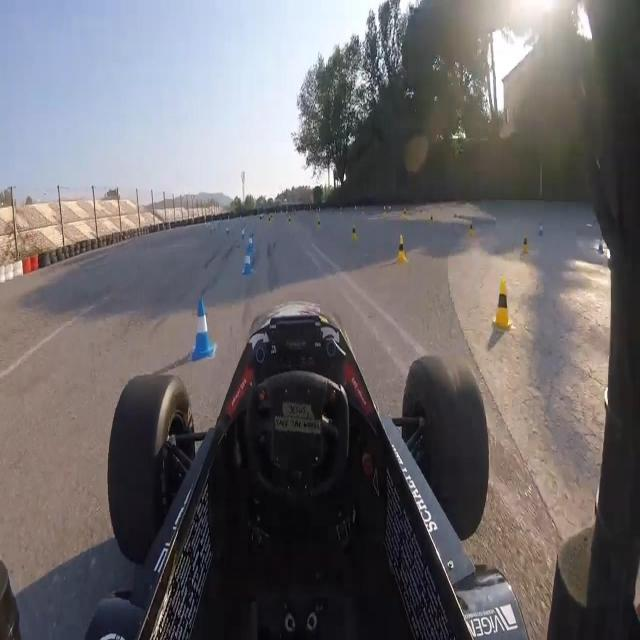blue_cone: (186, 292, 217, 362), (242, 249, 253, 278), (248, 237, 256, 260), (538, 217, 546, 238), (597, 234, 604, 253), (241, 228, 246, 242)
yellow_cone: (489, 276, 511, 330), (398, 235, 408, 262), (521, 235, 529, 259), (352, 223, 358, 243), (469, 221, 474, 239), (317, 217, 322, 233), (288, 216, 292, 227), (268, 216, 271, 227), (259, 215, 262, 226), (271, 214, 273, 222)
